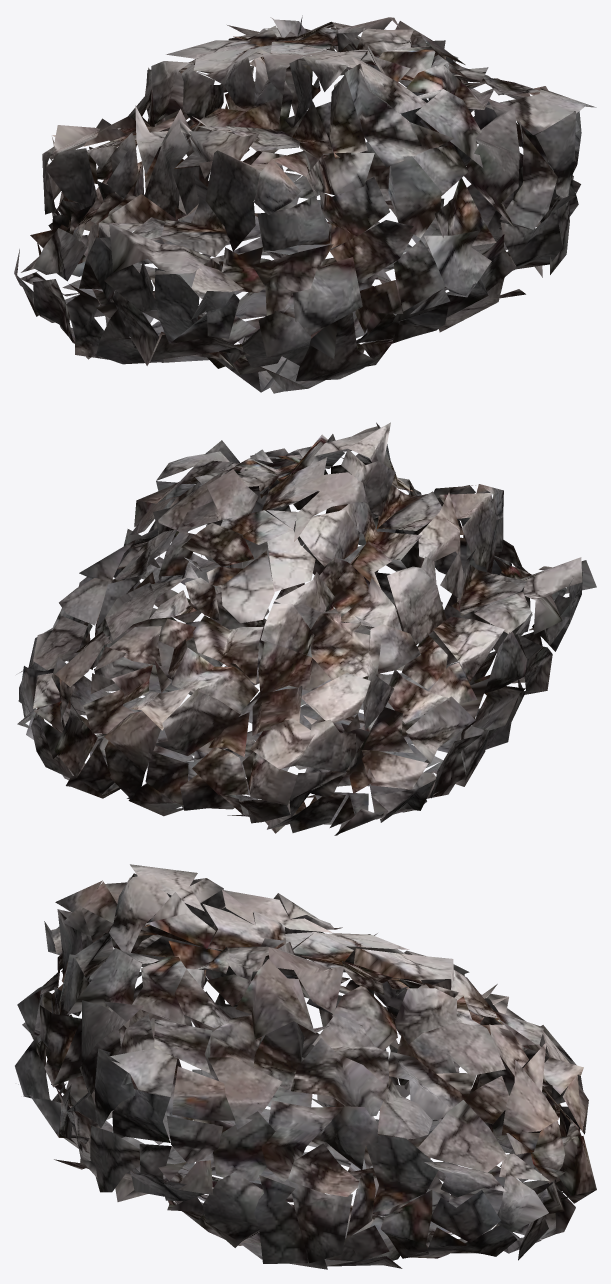
File: gray-stack.glb
The picture shows the model from 3 angles, top to bottom: view 1: azimuth 30°, elevation 25°; view 2: azimuth 150°, elevation 25°; view 3: azimuth 270°, elevation 25°; orthographic projection. The views are drawn at different scales.
Visible parts, largest first — view 1: Mesh_0; view 2: Mesh_0; view 3: Mesh_0.
Boxes of the visible parts, x1,y1,x2,y2 form: Mesh_0: (14,15,596,393); Mesh_0: (16,422,596,835); Mesh_0: (15,864,596,1269).
Size of the model in its own units: 2.4 by 1.56 by 2.5.
1 material, 1 textured.
